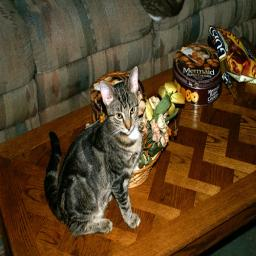catnose: (126, 125, 130, 132)
